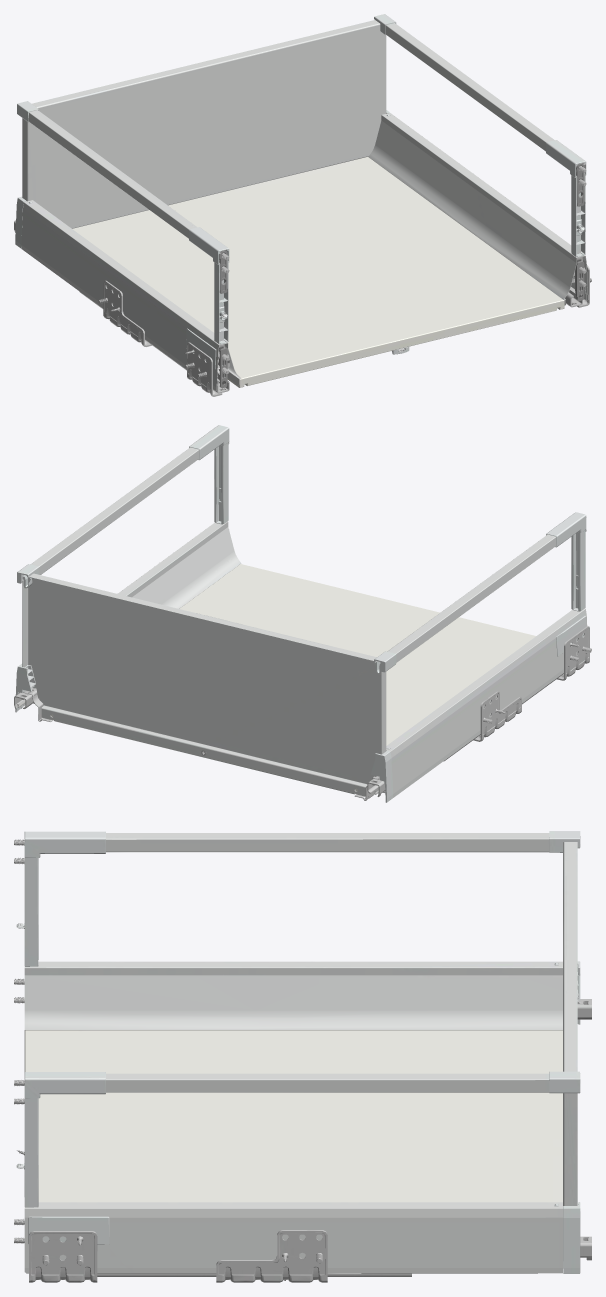
The model's file is maximera-30285025-rqp3.glb.
The picture shows the model from 3 angles, top to bottom: view 1: azimuth 30°, elevation 25°; view 2: azimuth 150°, elevation 25°; view 3: azimuth 270°, elevation 25°; orthographic projection. The views are drawn at different scales.
Parts seen in each view (by area): view 1: 30285025; view 2: 30285025; view 3: 30285025.
Boxes of the visible parts, box(x1,y1,x2,y2) form: 30285025: box(14, 14, 591, 396); 30285025: box(14, 425, 591, 802); 30285025: box(14, 831, 591, 1282).
Size of the model in its own units: 0.5914 by 0.2106 by 0.5409.
Materials: 1 (1 with a texture image).
